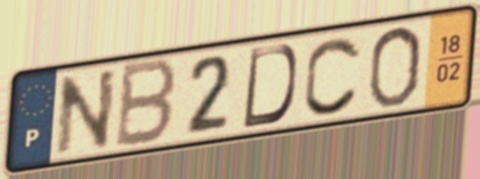2: (183, 53, 234, 136)
B: (111, 56, 181, 152)
C: (301, 33, 365, 118)
D: (239, 42, 299, 131)
N: (54, 65, 120, 159)
O: (364, 23, 425, 111)
